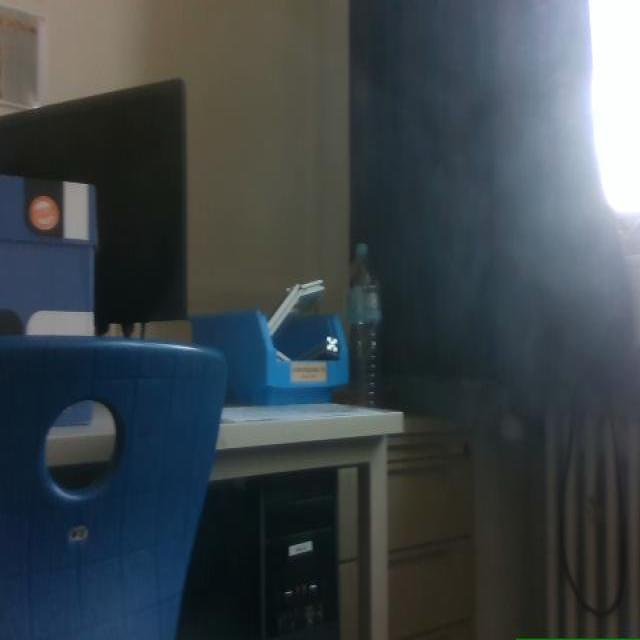objects: (0, 336, 225, 639)
